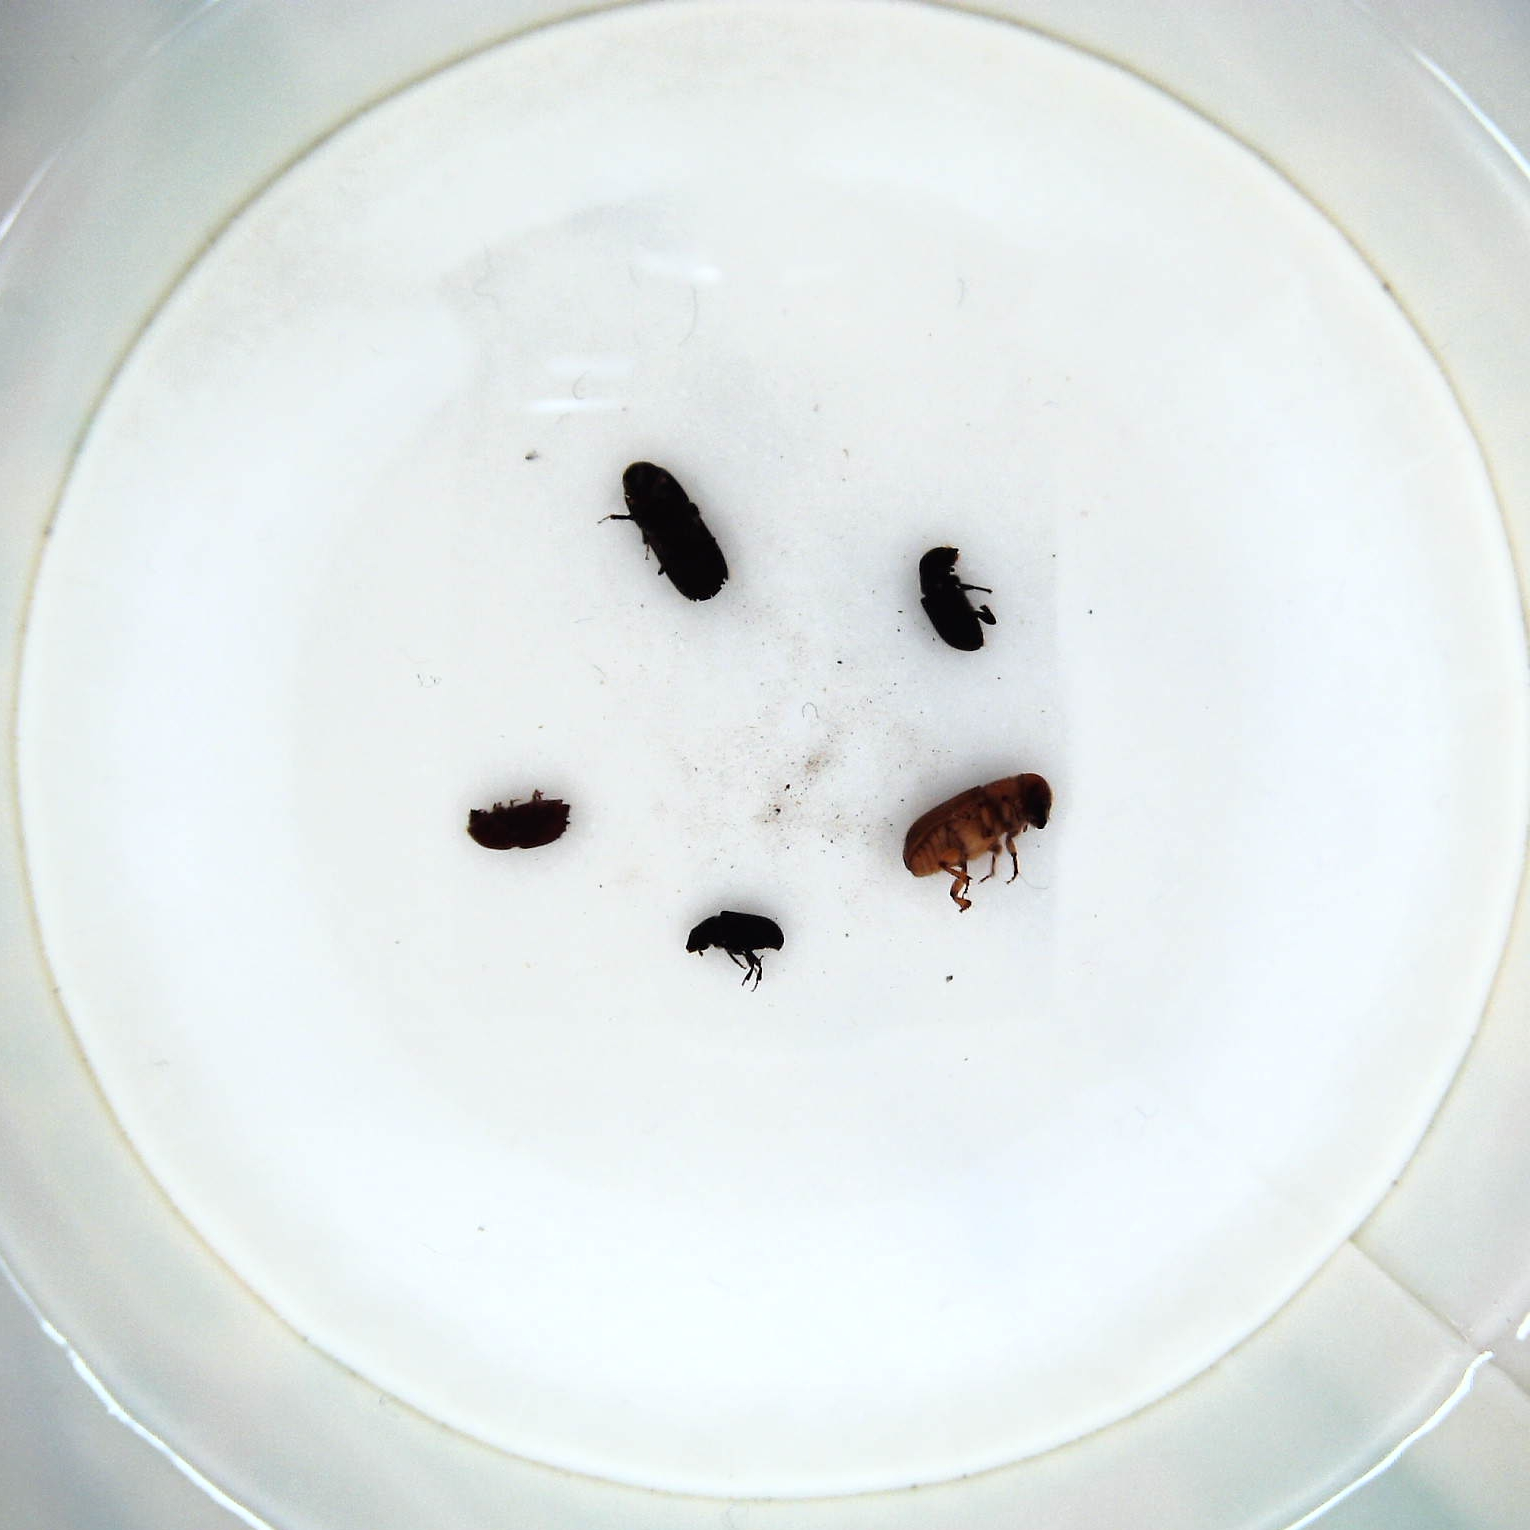Boerner: (604, 453, 736, 607)
Leconte: (897, 768, 1058, 916)
armandi: (911, 544, 1007, 661)
coleoptera: (680, 907, 785, 998)
linnaeus: (460, 787, 574, 857)
